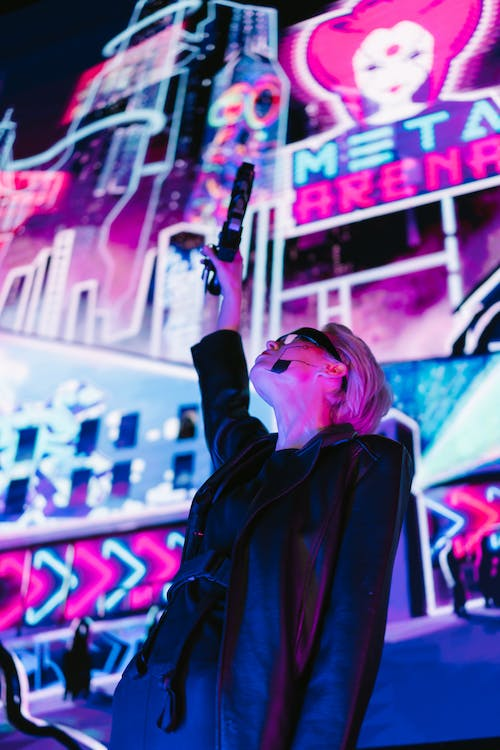gun: (197, 156, 257, 298)
